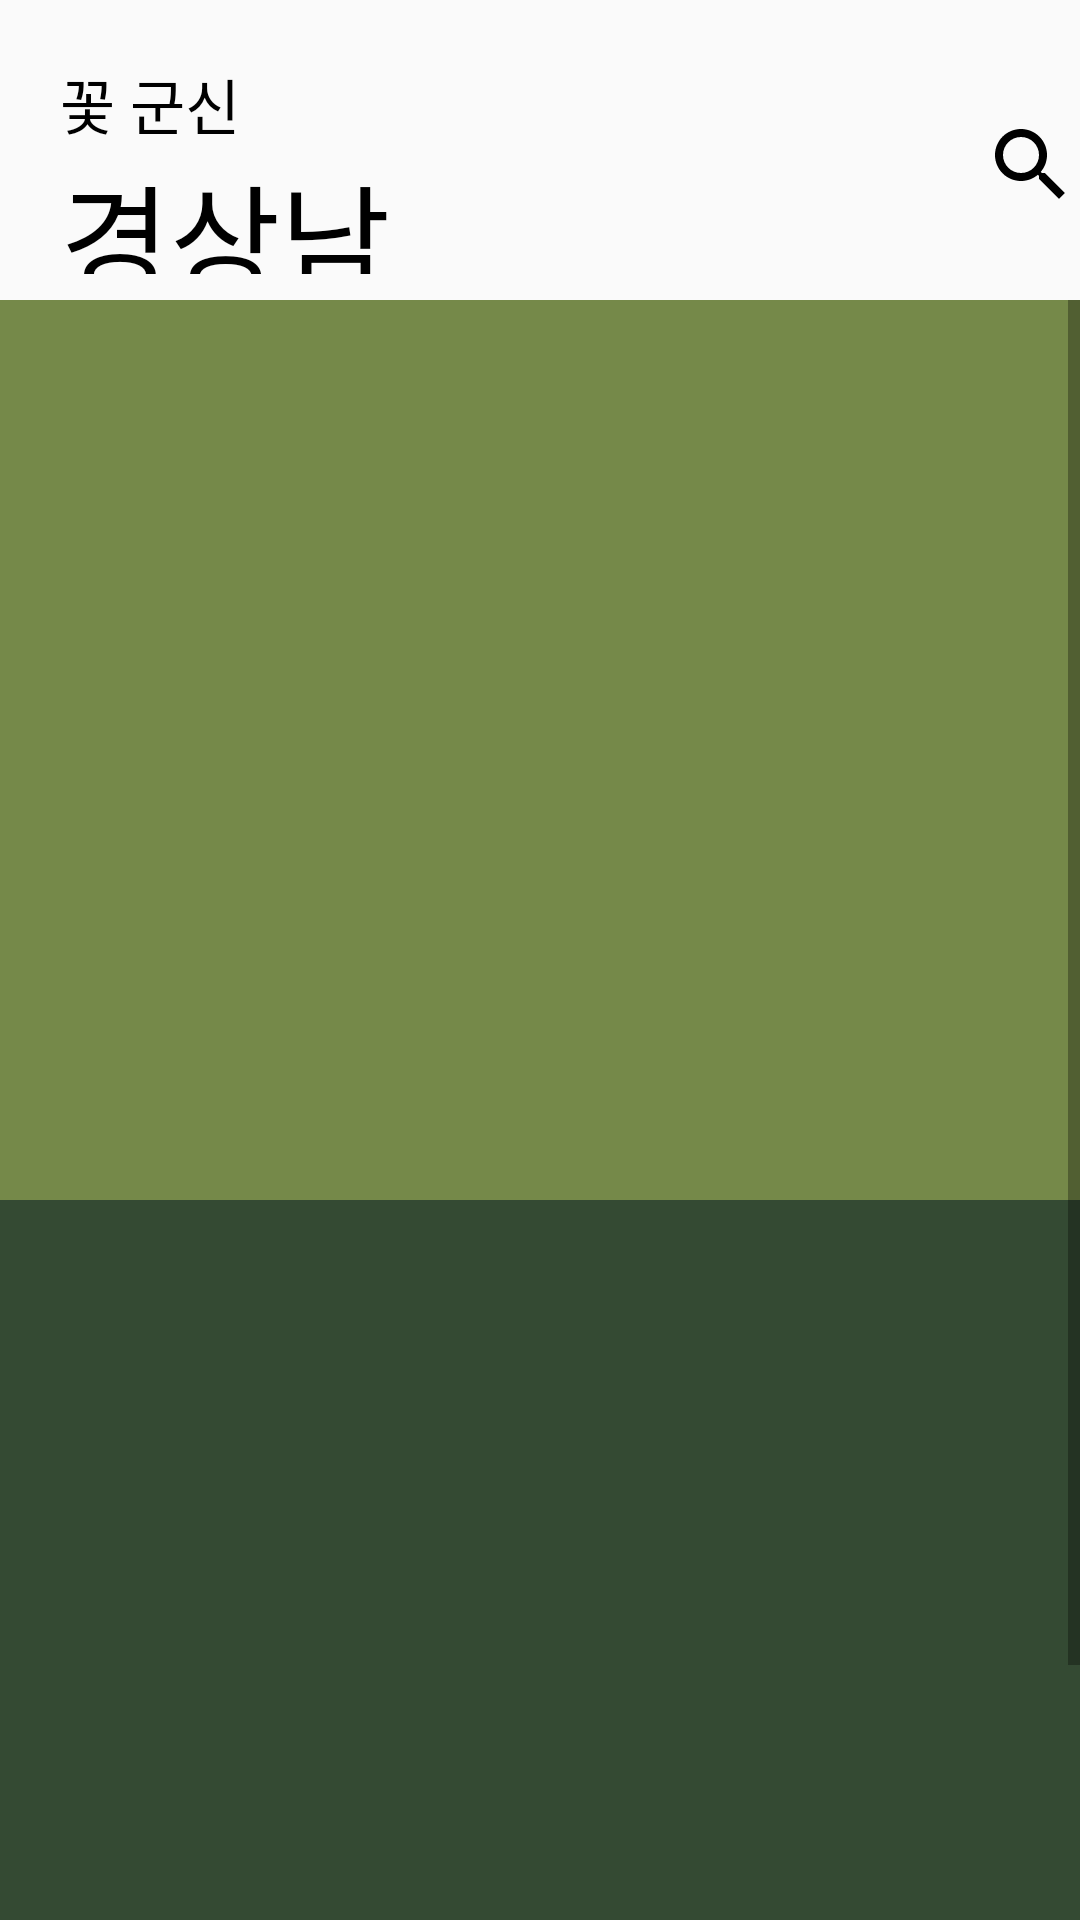

Icon click points for this 1080x1920 phone screenshot, format [x,y]:
search: [1030,164]
